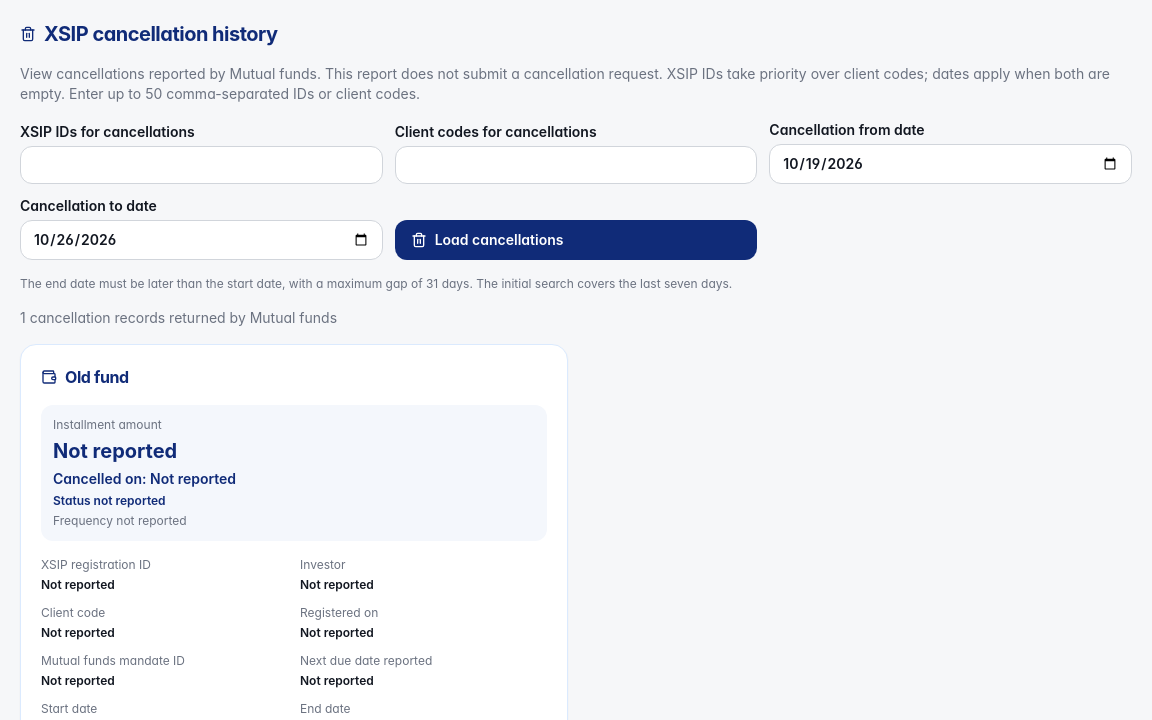
Scenario: filters by client code and clears stale results
The image size is (1152, 720).
Expected: the heading "Old fund" is shown, [41, 367, 129, 387]
In the field labelled "Client codes for cancellations": {"x": 576, "y": 165} [395, 146, 757, 184], type "TEST"
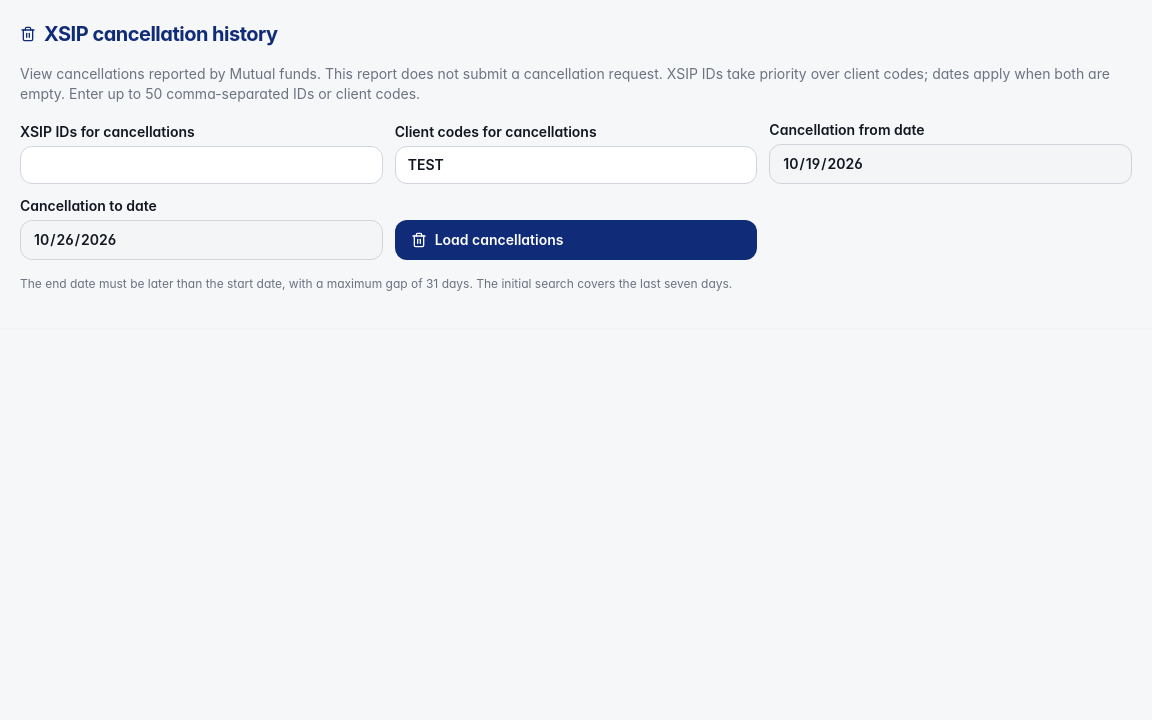
Expected: the heading "Old fund" is gone
Click the button "Load cancellations": {"x": 499, "y": 240} [395, 220, 757, 260]
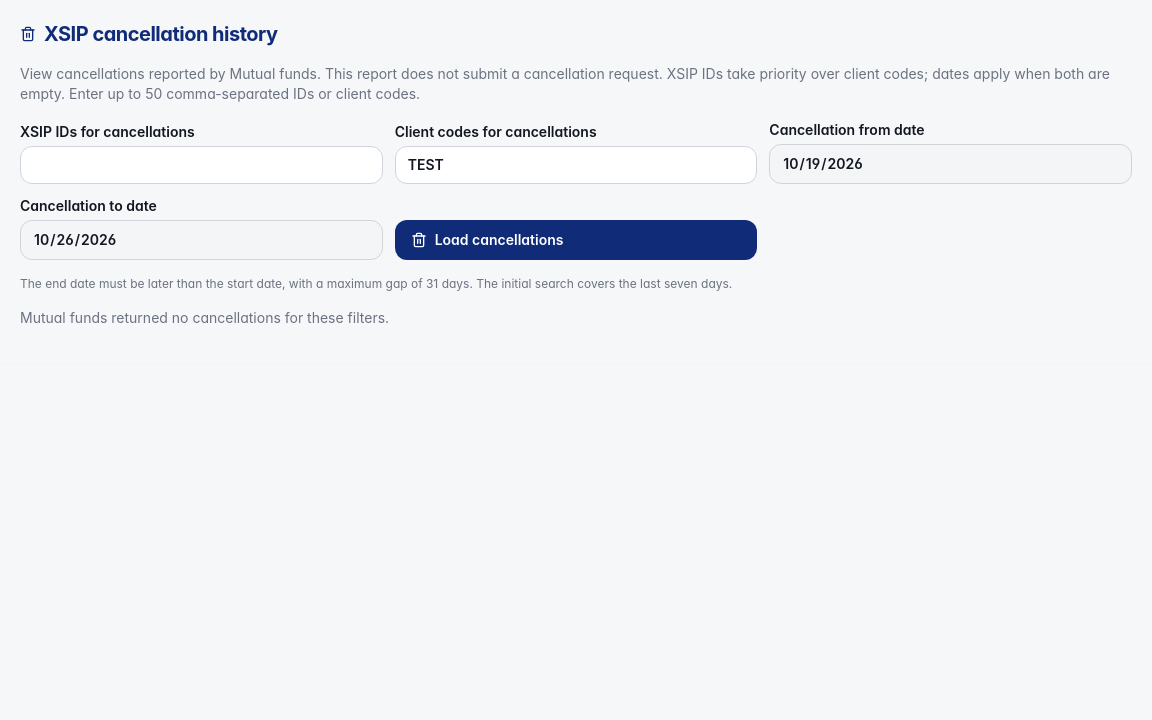
Expected: the message shows "Mutual funds returned no cancellations", [20, 309, 389, 326]
